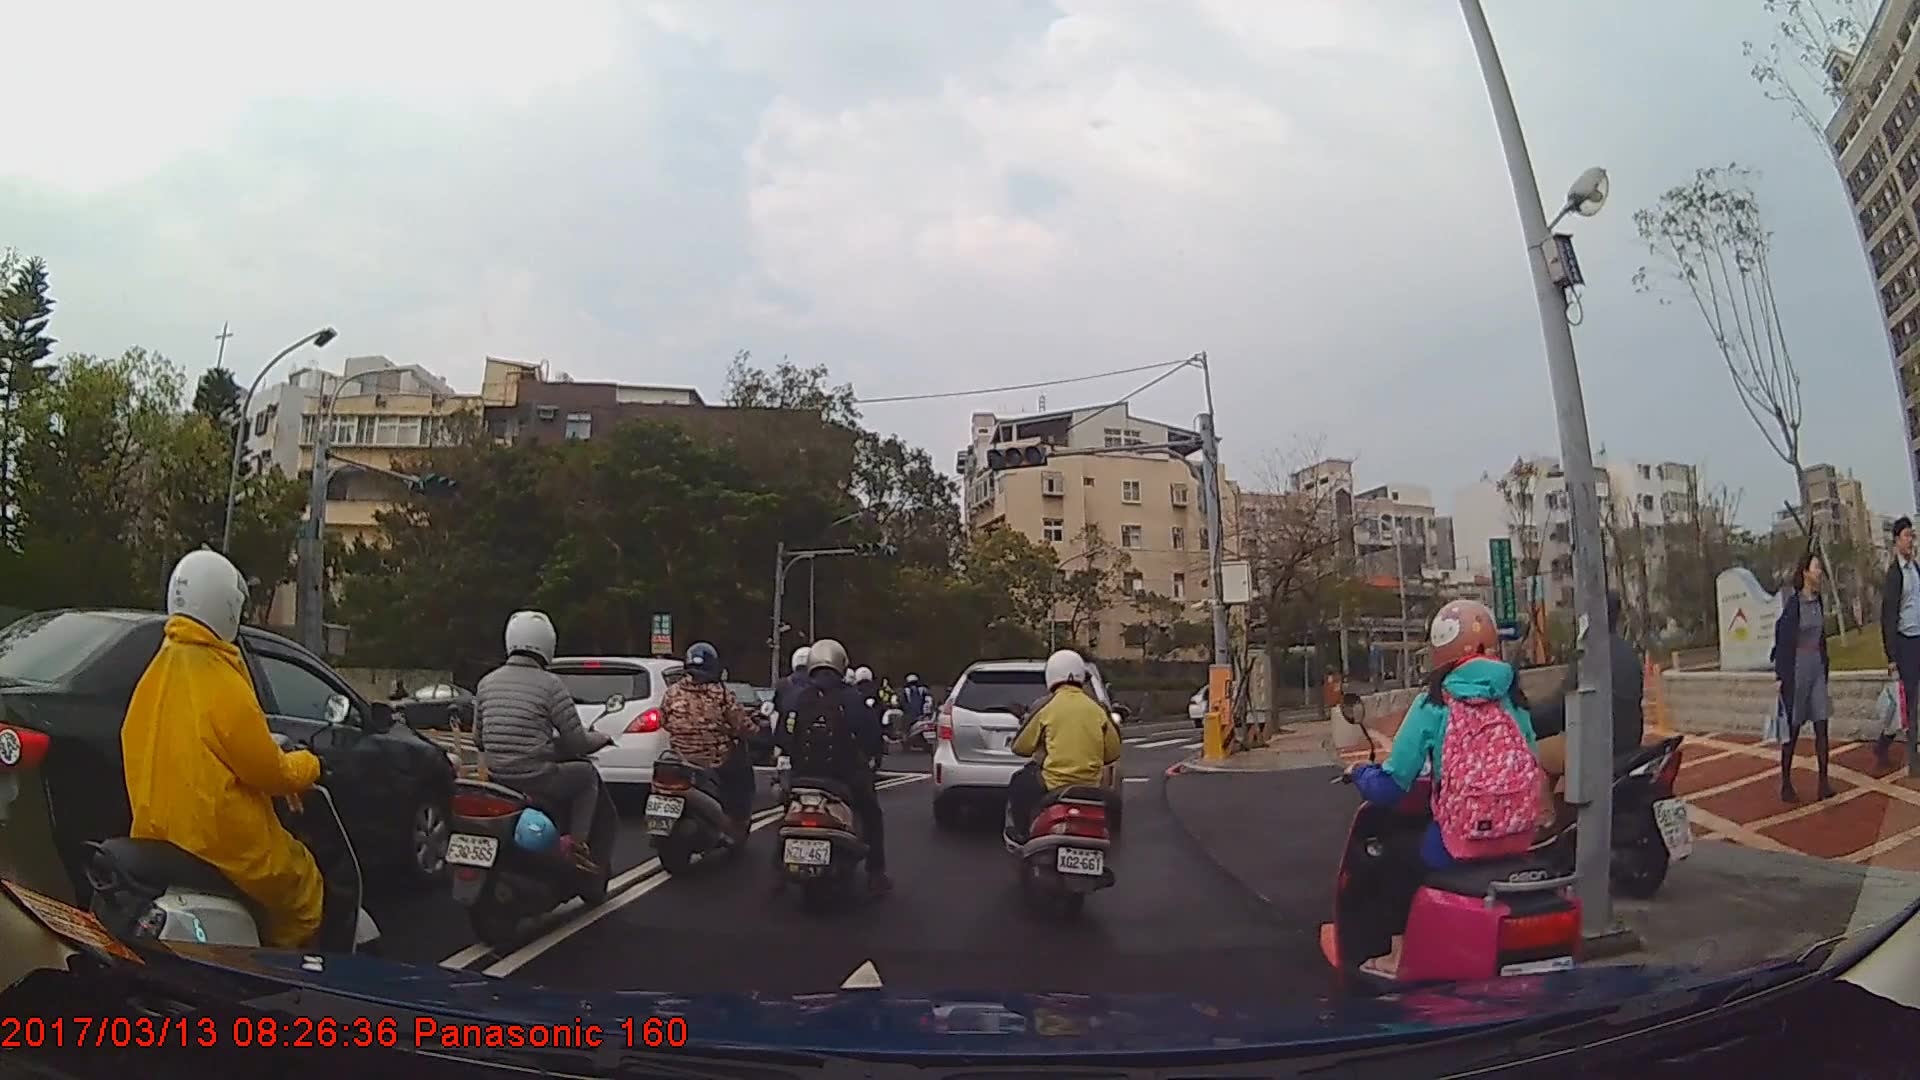pedestrian: (1778, 558, 1849, 807), (1877, 514, 1920, 784)
rider: (87, 545, 386, 1006), (1336, 603, 1576, 1015), (447, 606, 619, 952), (771, 637, 897, 918), (1004, 649, 1125, 919), (641, 642, 767, 877)
vehicle: (0, 605, 461, 940), (517, 657, 751, 817), (926, 661, 1124, 830), (389, 682, 492, 731)
